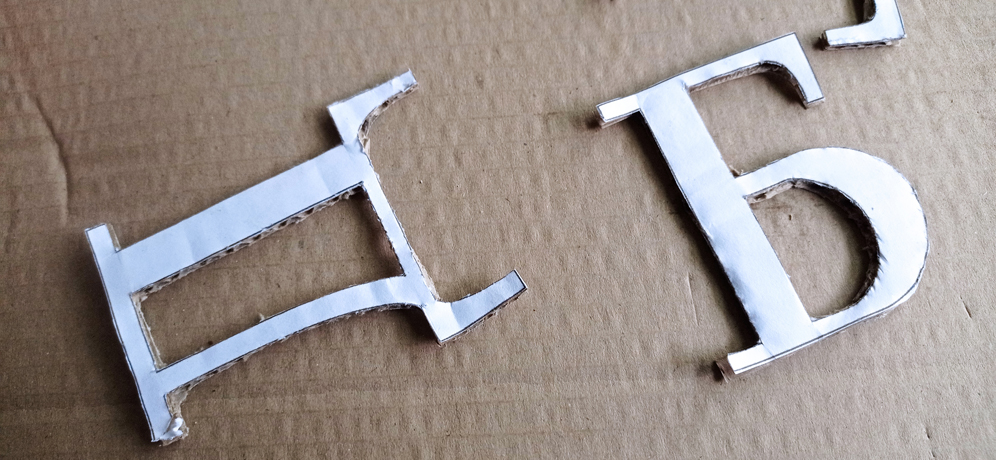b: (594, 30, 931, 381)
d: (83, 72, 528, 447)
